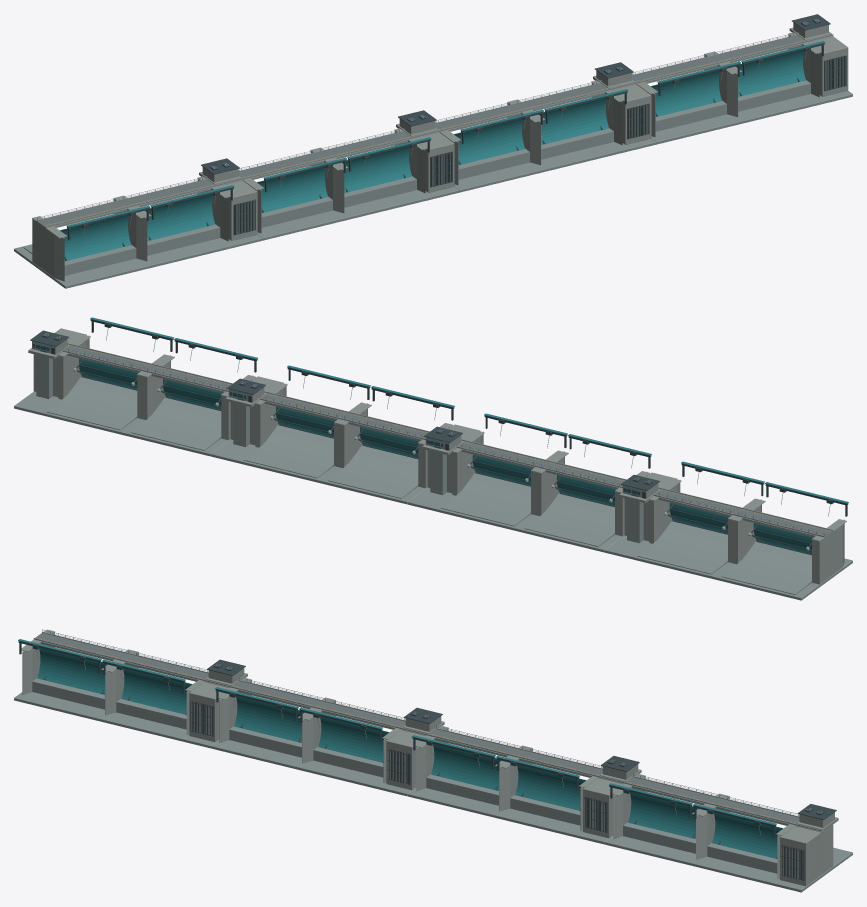
File: Dam_Assembly300_LOD0.fbx
The picture shows the model from 3 angles, top to bottom: view 1: azimuth 30°, elevation 25°; view 2: azimuth 150°, elevation 25°; view 3: azimuth 330°, elevation 25°; orthographic projection.
Parts seen in each view (by area): view 1: Dam_Unit_01_75m, Dam_Unit_02_75m, Dam_Unit_03_75m, Dam_Unit_04_75m; view 2: Dam_Unit_01_75m, Dam_Unit_02_75m, Dam_Unit_03_75m, Dam_Unit_04_75m; view 3: Dam_Unit_04_75m, Dam_Unit_03_75m, Dam_Unit_01_75m, Dam_Unit_02_75m.
Boxes of the visible parts, x1,y1,x2,y2 form: Dam_Unit_01_75m: (14, 158, 262, 288); Dam_Unit_02_75m: (238, 110, 458, 240); Dam_Unit_03_75m: (435, 62, 655, 192); Dam_Unit_04_75m: (632, 14, 852, 144); Dam_Unit_01_75m: (604, 461, 852, 600); Dam_Unit_02_75m: (408, 413, 651, 552); Dam_Unit_03_75m: (211, 365, 454, 504); Dam_Unit_04_75m: (14, 317, 257, 456); Dam_Unit_04_75m: (604, 773, 852, 892); Dam_Unit_03_75m: (408, 725, 641, 844); Dam_Unit_01_75m: (14, 629, 247, 748); Dam_Unit_02_75m: (211, 677, 444, 796).
Size of the model in its own units: 30000 by 2208 by 3400.
9 materials, 1 textured.
